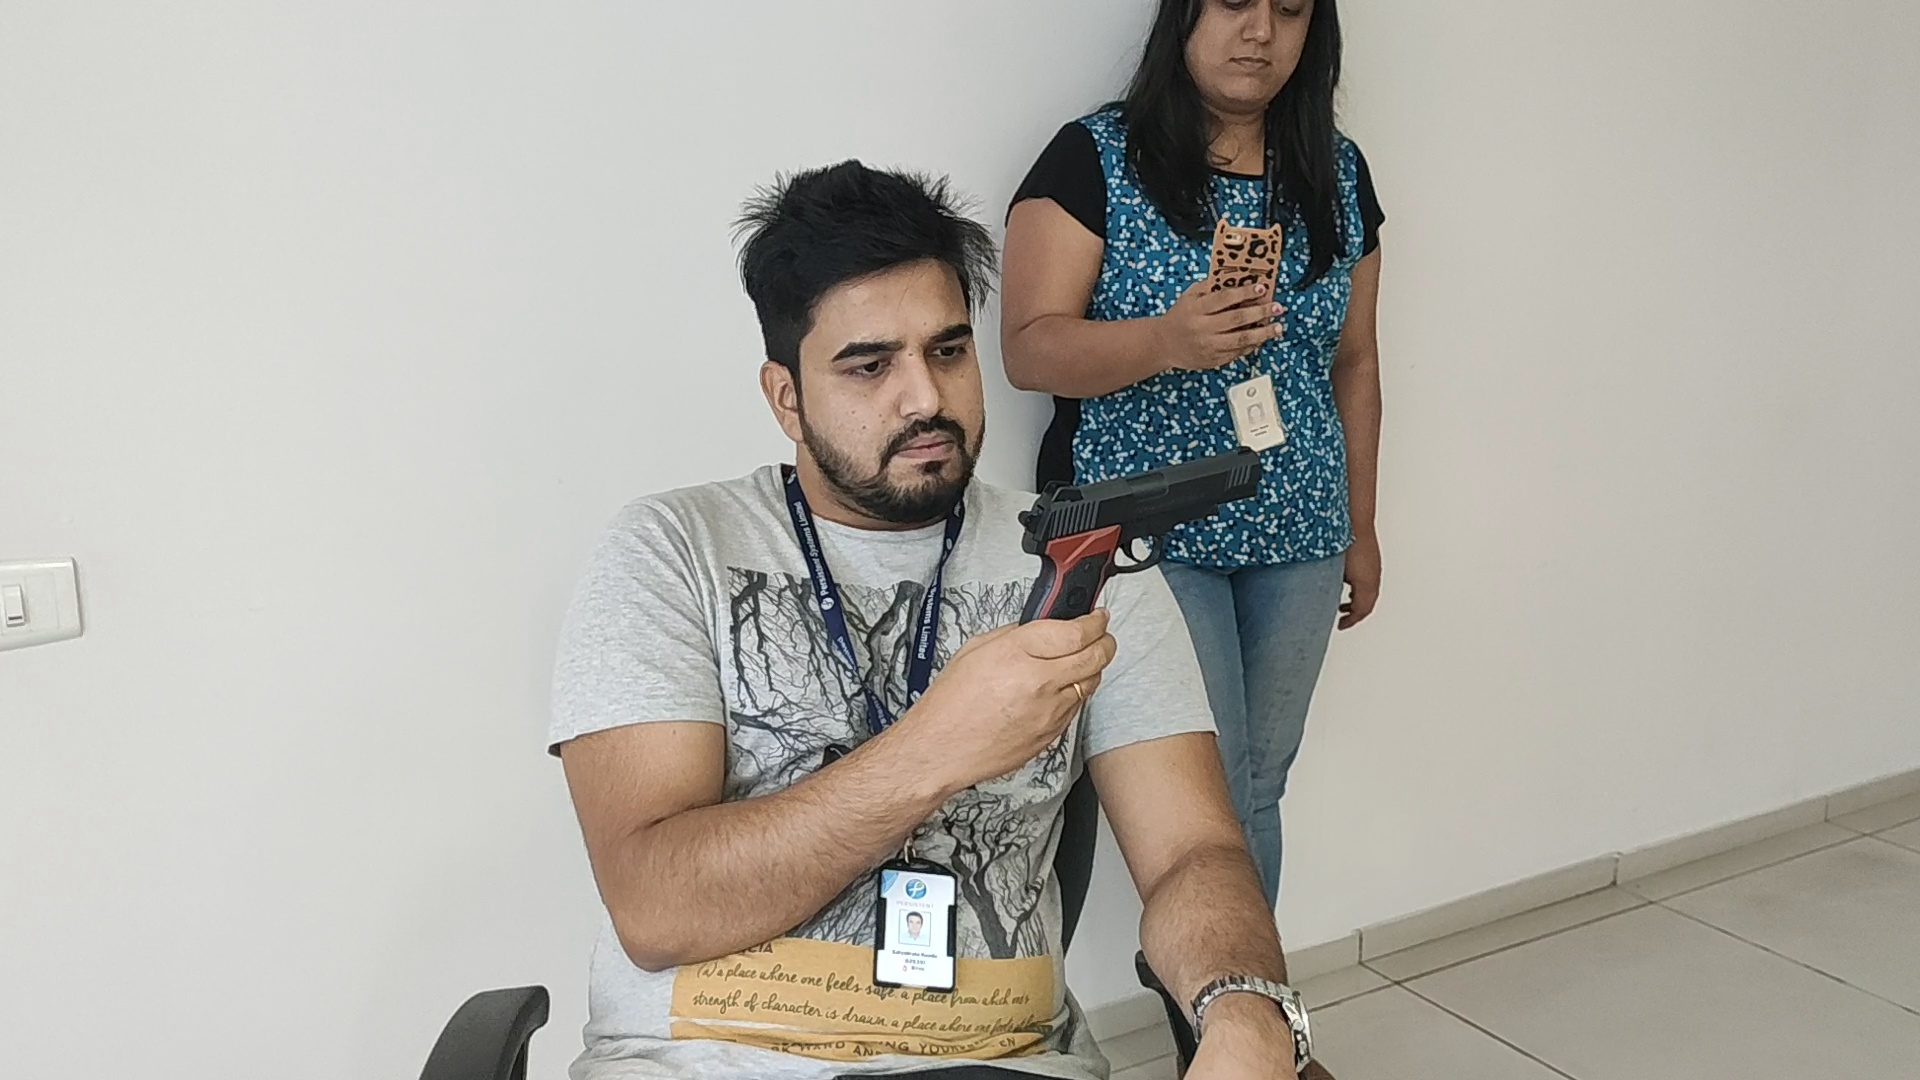gun: (1021, 448, 1269, 615)
